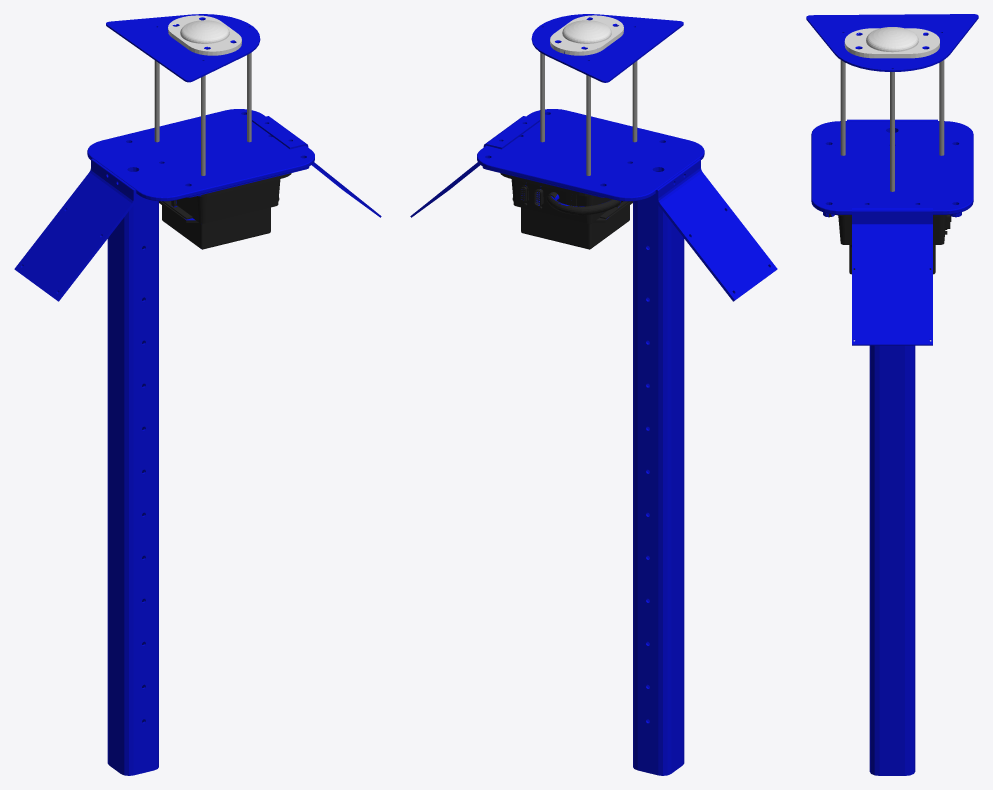
The model's file is mast.dae.
3 views of the same model, side by side, from view 1: azimuth 30°, elevation 25°; view 2: azimuth 150°, elevation 25°; view 3: azimuth 270°, elevation 25° (orthographic). The views are drawn at different scales.
Visible parts, largest first — view 1: BAza; view 2: BAza; view 3: BAza.
Part boxes in pixels (x1=…): BAza: x1=14, y1=14, x2=381, y2=775; BAza: x1=410, y1=14, x2=777, y2=775; BAza: x1=806, y1=14, x2=978, y2=775.
Size of the model in its own units: 0.3978 by 0.17 by 0.8388.
